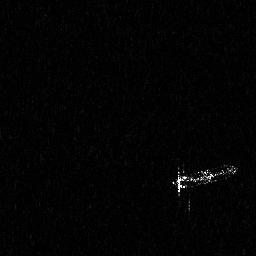ship: (170, 157, 239, 215)
